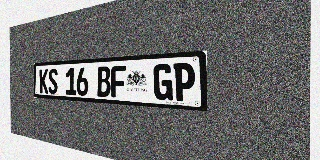1: (65, 68, 76, 95)
6: (76, 67, 88, 96)
B: (97, 66, 111, 97)
F: (111, 65, 126, 98)
G: (153, 63, 173, 101)
K: (39, 69, 48, 94)
P: (173, 62, 195, 102)
S: (48, 68, 58, 94)
